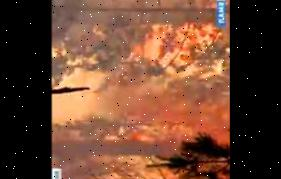fire: (130, 20, 217, 76), (63, 157, 230, 179)
